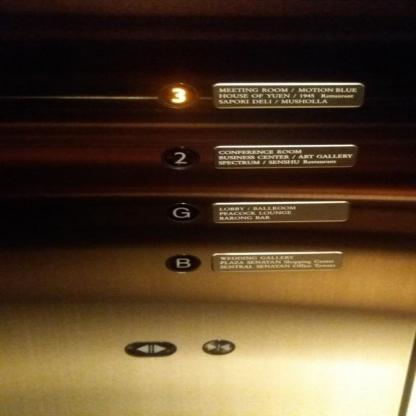2: (155, 143, 202, 173)
3: (154, 80, 202, 112)
B: (160, 251, 203, 275)
G: (159, 199, 204, 225)
close: (199, 337, 236, 357)
open: (121, 339, 179, 358)
